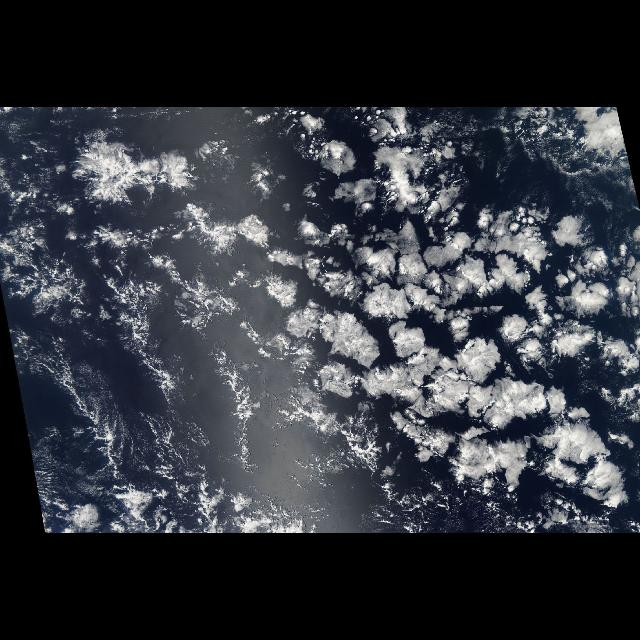Fish: (4, 218, 262, 498)
Flower: (160, 167, 638, 526)
Sugar: (74, 352, 232, 481)
